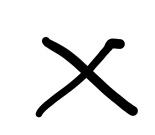mult: (36, 36, 138, 118)
